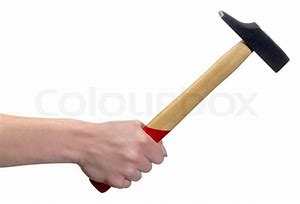hammer: (87, 10, 291, 194)
